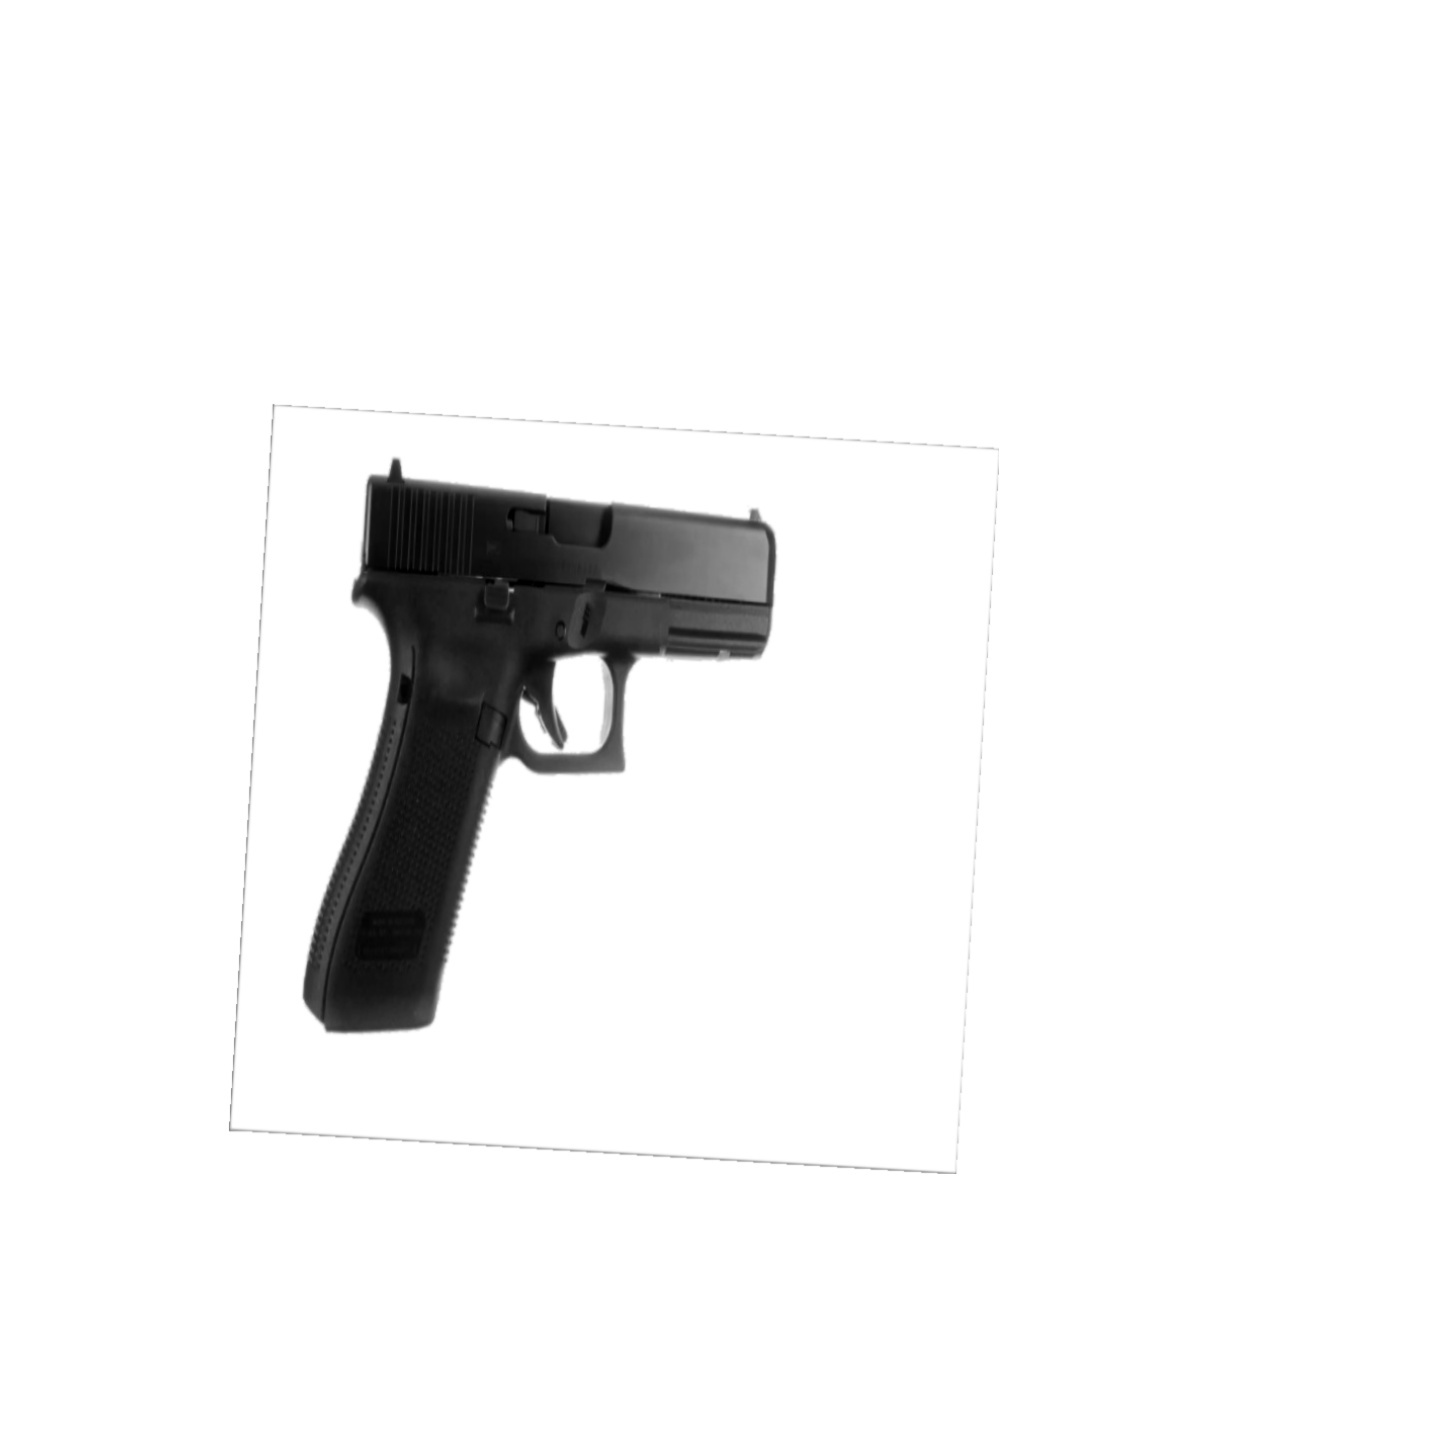gun: (299, 446, 781, 1051)
